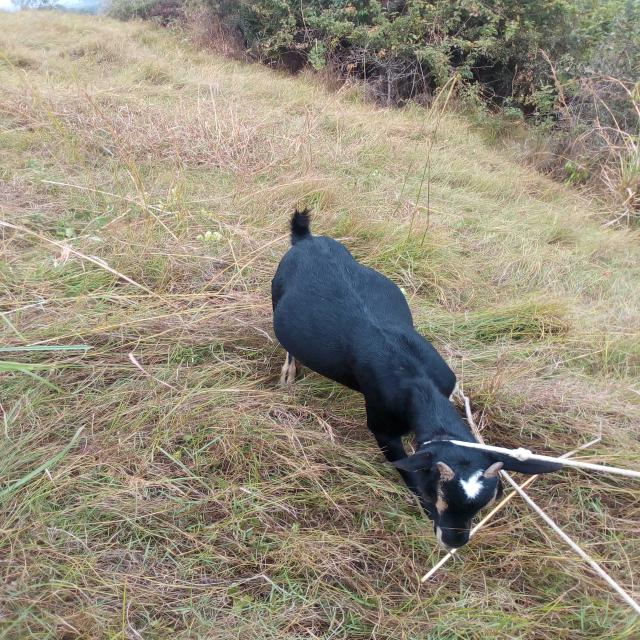goat: (184, 142, 611, 577)
